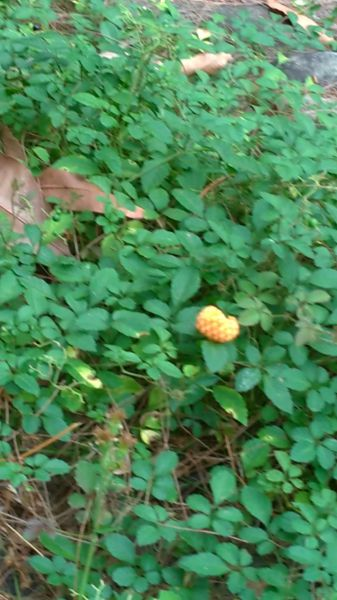eggs: (193, 300, 245, 350)
